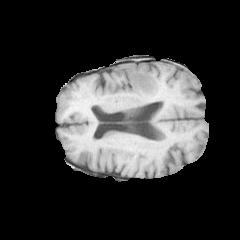glioma: (122, 63, 159, 104)
